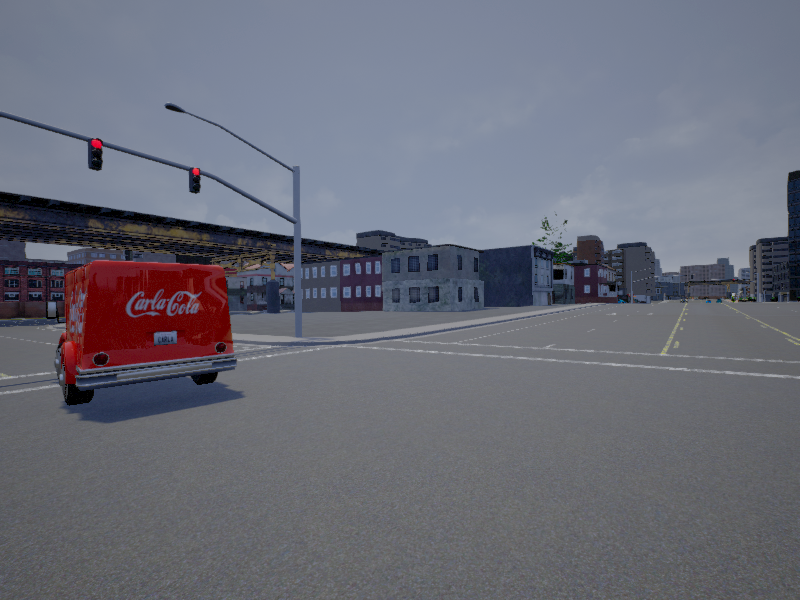Benign: (57, 261, 232, 408)
